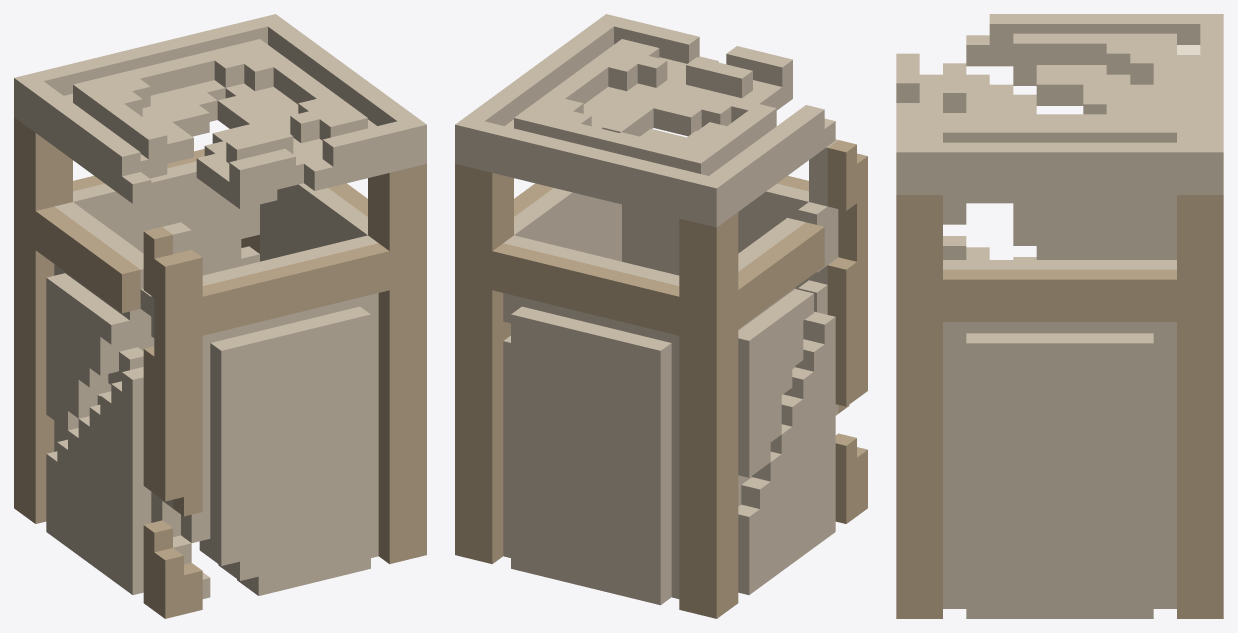
File: Background_A_deco_01.FBX
3 views of the same model, side by side, from view 1: azimuth 30°, elevation 25°; view 2: azimuth 150°, elevation 25°; view 3: azimuth 270°, elevation 25° (orthographic). The views are drawn at different scales.
Visible parts, largest first — view 1: Load_A-15; view 2: Load_A-15; view 3: Load_A-15.
Part boxes in pixels (x1,y1,x2,y2): Load_A-15: (14, 14, 426, 618); Load_A-15: (455, 14, 867, 618); Load_A-15: (896, 14, 1223, 618).
Size of the model in its own units: 1.4 by 2.2 by 1.4.
1 material, 1 textured.
